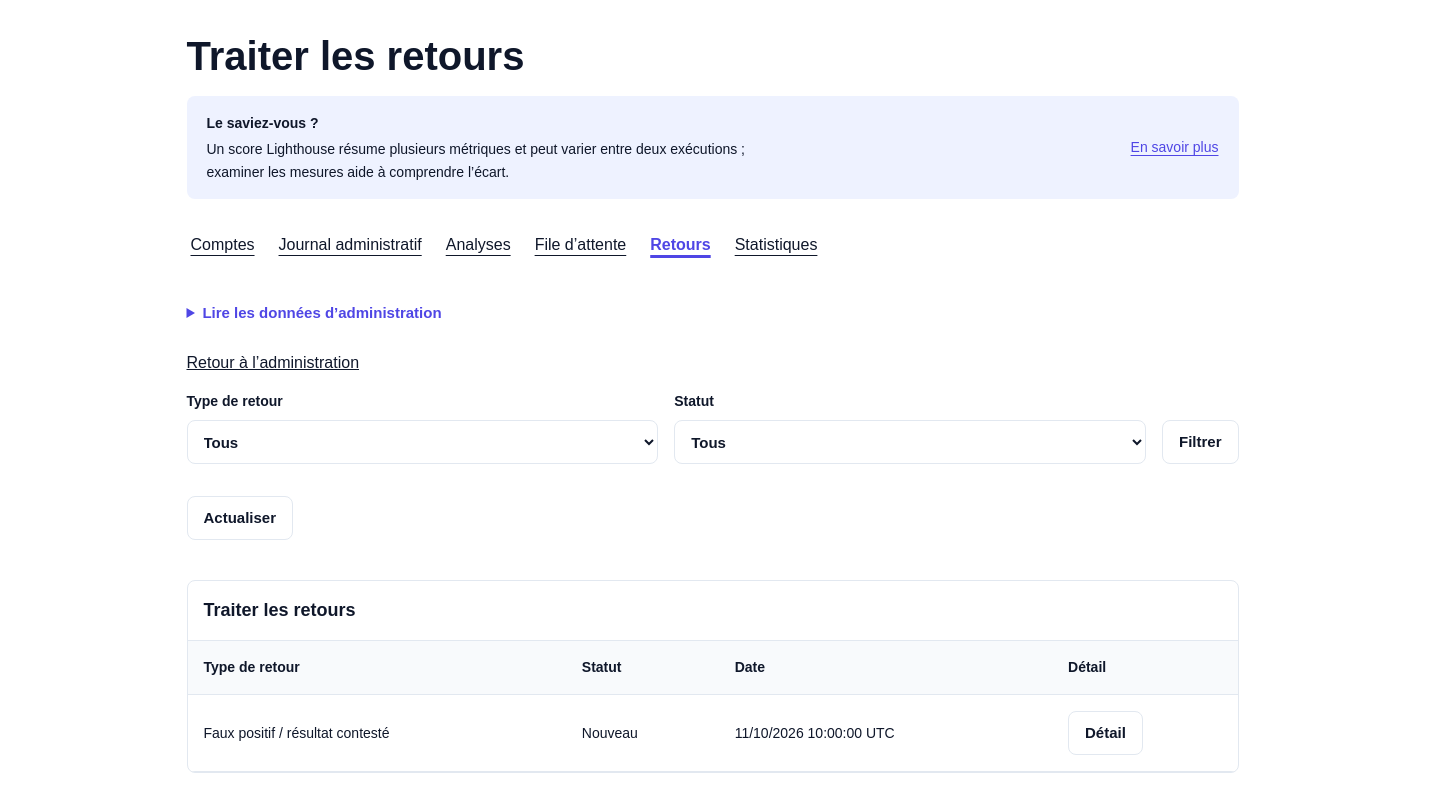
Test: never loads data for non-admins and removes details after revocation
The width and height of the screenshot is (1440, 785).
Click the button with aria-label "Détail 42". click: click(1105, 733)
box: [1068,711,1143,755]
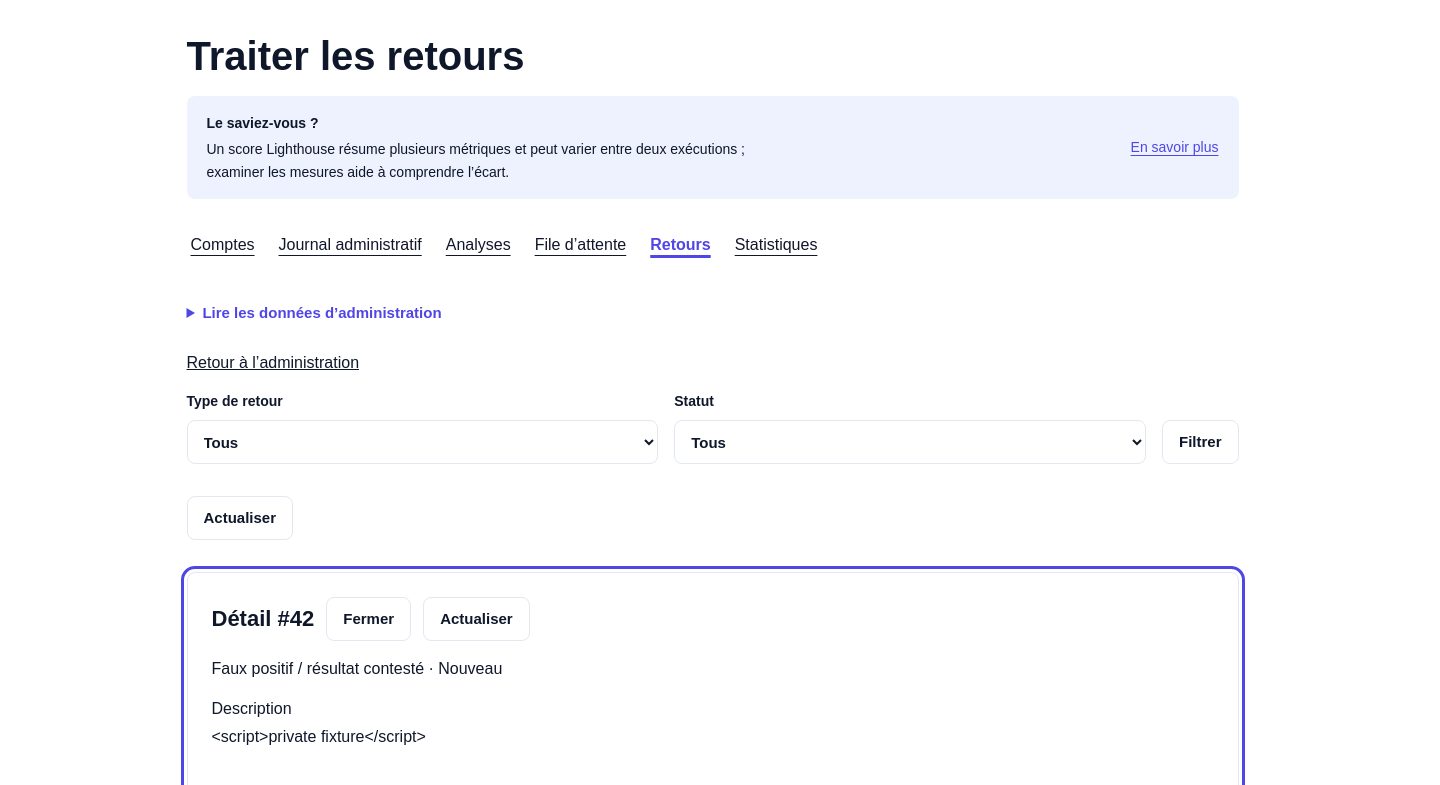
Check: the text "<script>private fixture</script>" is shown, box [212,728,426,745]
